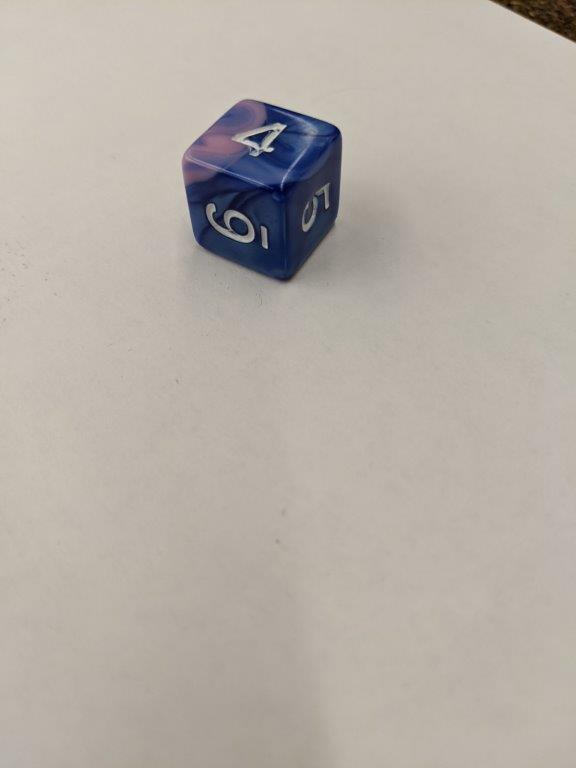d6-4: (180, 98, 343, 284)
